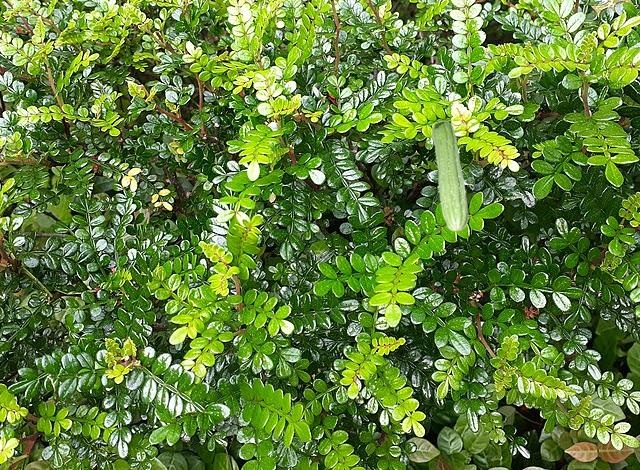ampalaya: (429, 118, 470, 233)
